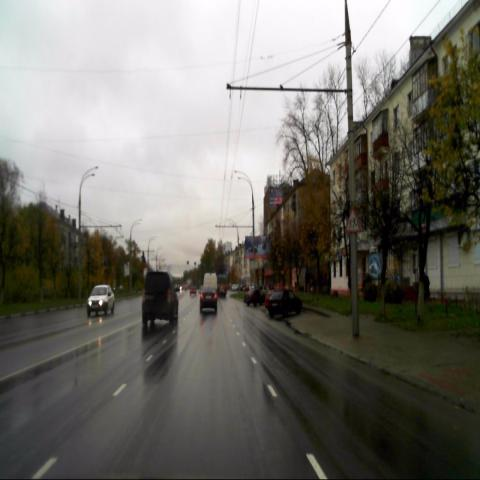1_23: (345, 208, 360, 232)
